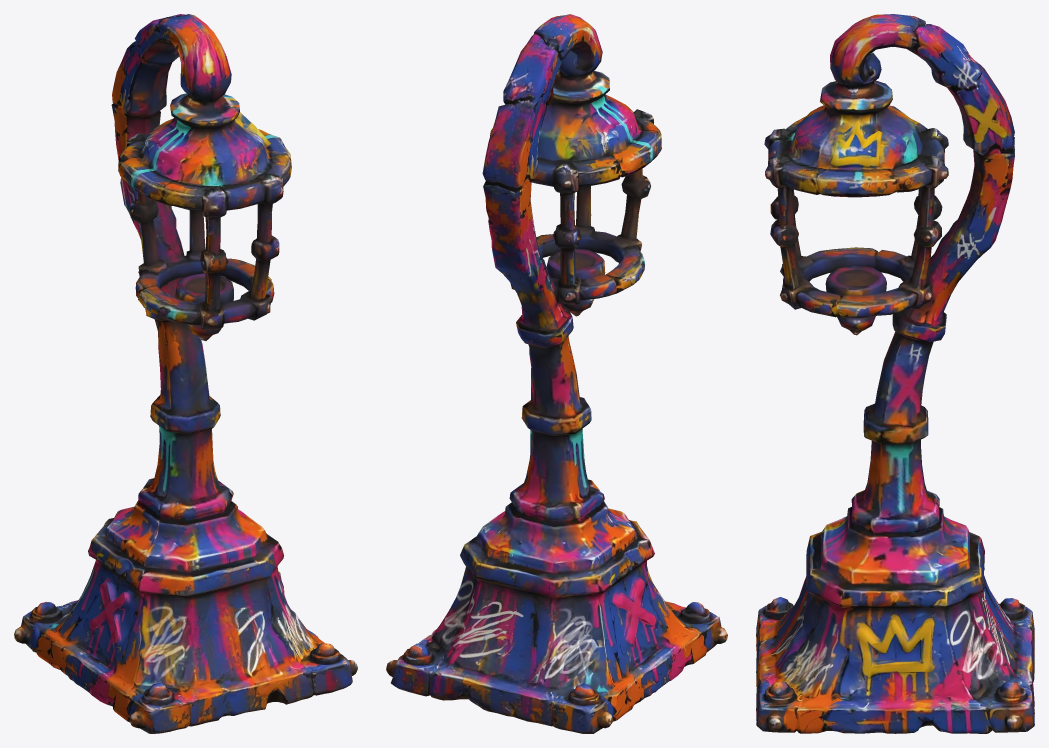
The model's file is peeping_lamp_post.glb.
3 renders of one model, left to right at view 1: azimuth 30°, elevation 25°; view 2: azimuth 150°, elevation 25°; view 3: azimuth 270°, elevation 25°, orthographic. The views are drawn at different scales.
Visible parts, largest first — view 1: peeping_lamp_post; view 2: peeping_lamp_post; view 3: peeping_lamp_post.
Part boxes in pixels (x1,y1,x2,y2): peeping_lamp_post: [14, 14, 357, 733]; peeping_lamp_post: [386, 14, 727, 733]; peeping_lamp_post: [756, 14, 1034, 733].
Size of the model in its own units: 1.83 by 5 by 1.9.
Materials: 1 (1 with a texture image).
